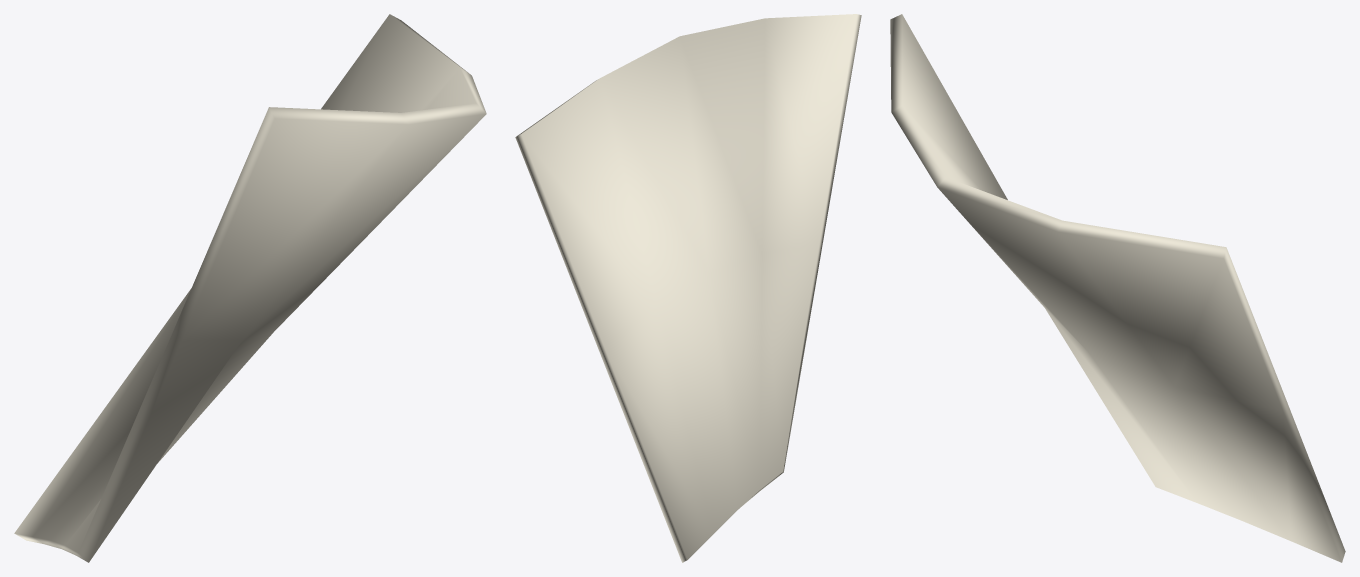
3 views of the same model, side by side, from view 1: azimuth 30°, elevation 25°; view 2: azimuth 150°, elevation 25°; view 3: azimuth 270°, elevation 25° (orthographic). The views are drawn at different scales.
Visible parts, largest first — view 1: ZA_69f883880fcc9bcf; view 2: ZA_69f883880fcc9bcf; view 3: ZA_69f883880fcc9bcf.
Part boxes in pixels (x1,y1,x2,y2): ZA_69f883880fcc9bcf: (14,14,486,562); ZA_69f883880fcc9bcf: (515,14,861,562); ZA_69f883880fcc9bcf: (890,14,1345,562).
Bounding box in the file's own units: 0.0136 × 0.0225 × 0.017.
